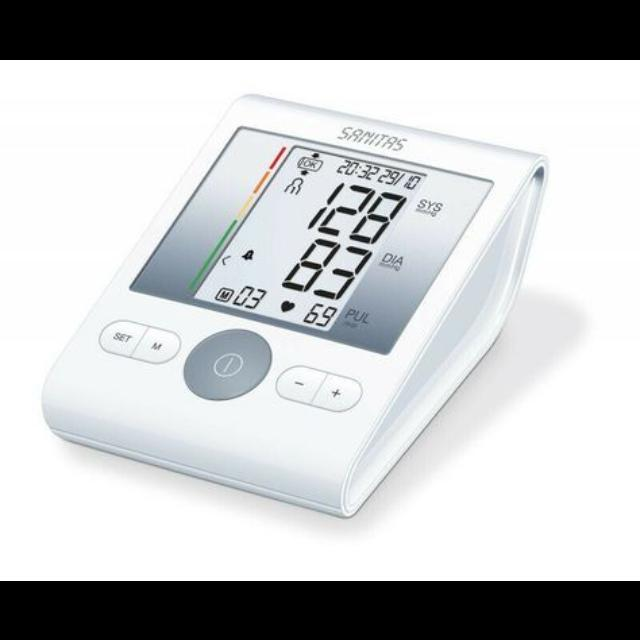Blood-Pressure-Monitor: (42, 94, 548, 515)
